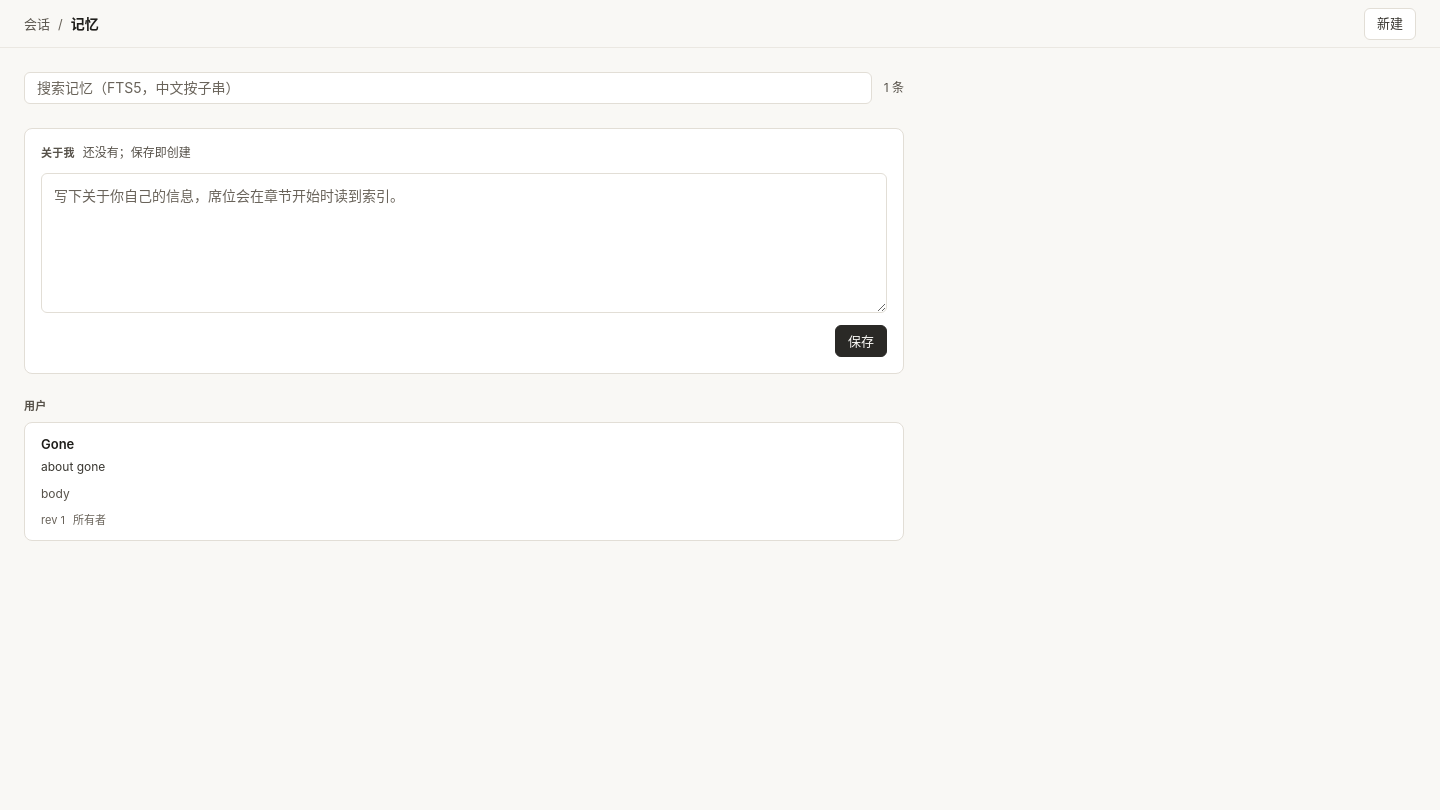
it: a delete target already removed elsewhere › refreshes the list and closes the editor instead of reopening it stale
What coordinates should you click on to do the following:
click the button with test id "memory-row"
I would click on:
 (58, 444)
Its box is [41,436,106,527].
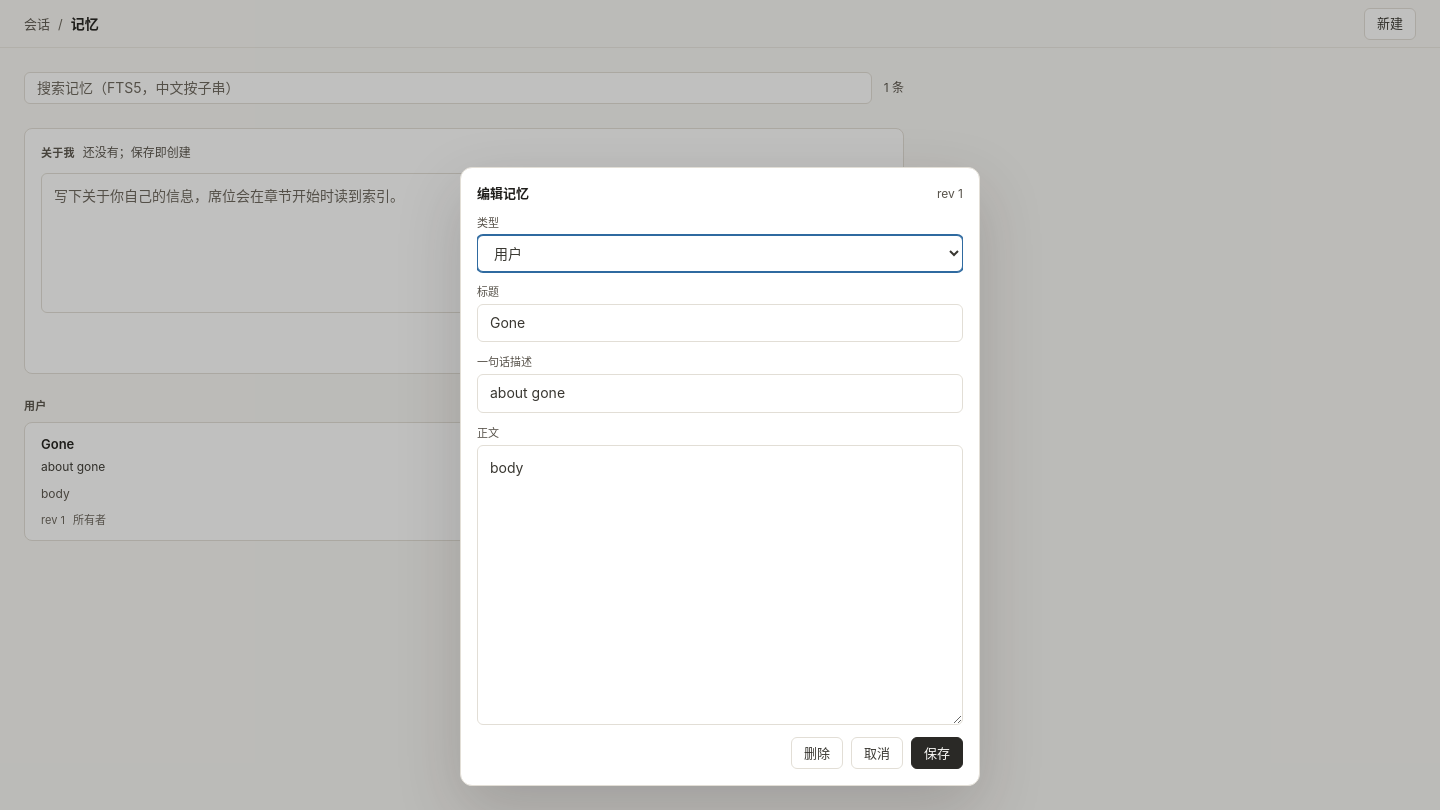
What coordinates should you click on to do the following:
click the button with test id "memory-editor-delete"
I would click on:
 (817, 753)
Its box is [791,737,843,769].
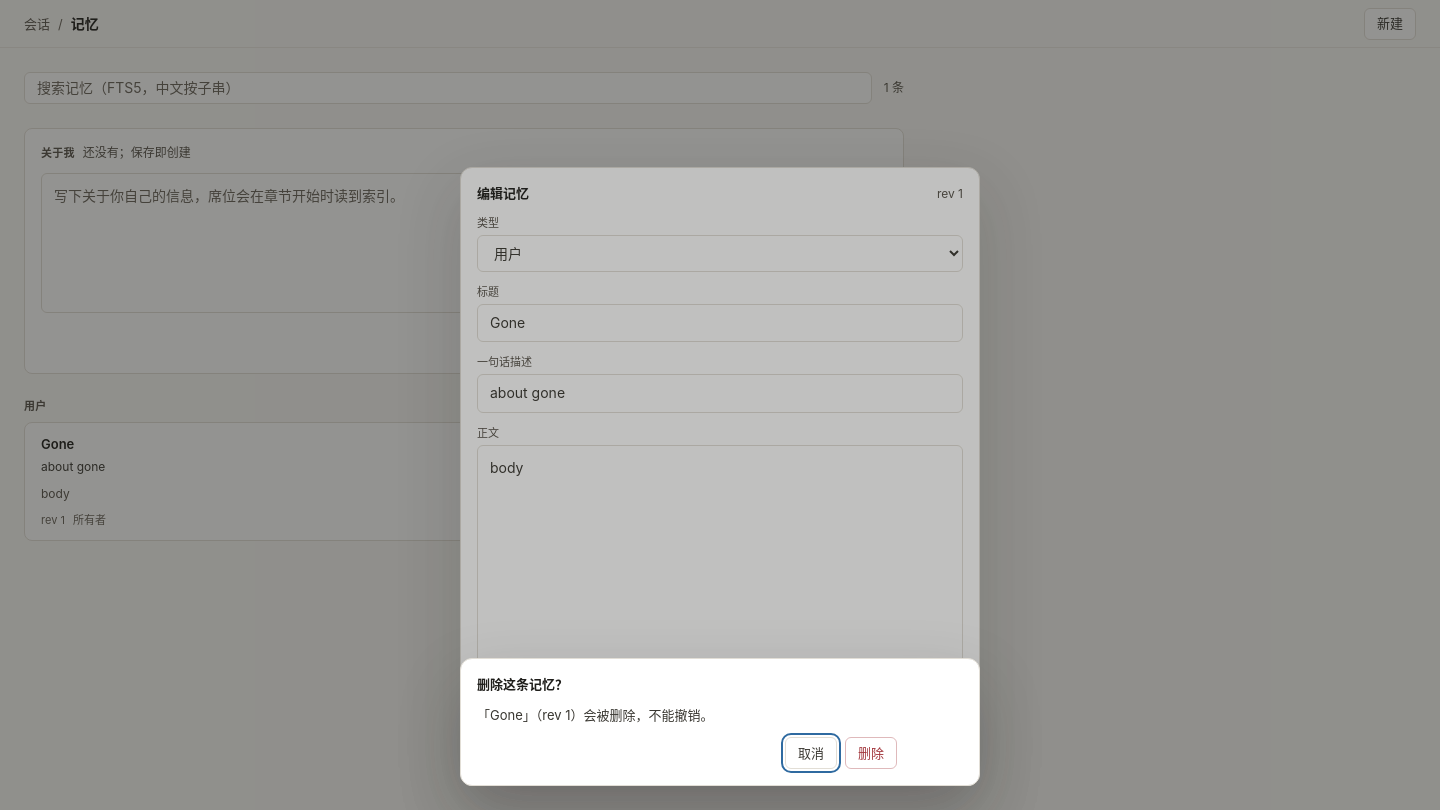
What coordinates should you click on to do the following:
click the button with test id "memory-delete-confirm-yes"
I would click on:
 (871, 753)
Its box is [845,737,897,769].
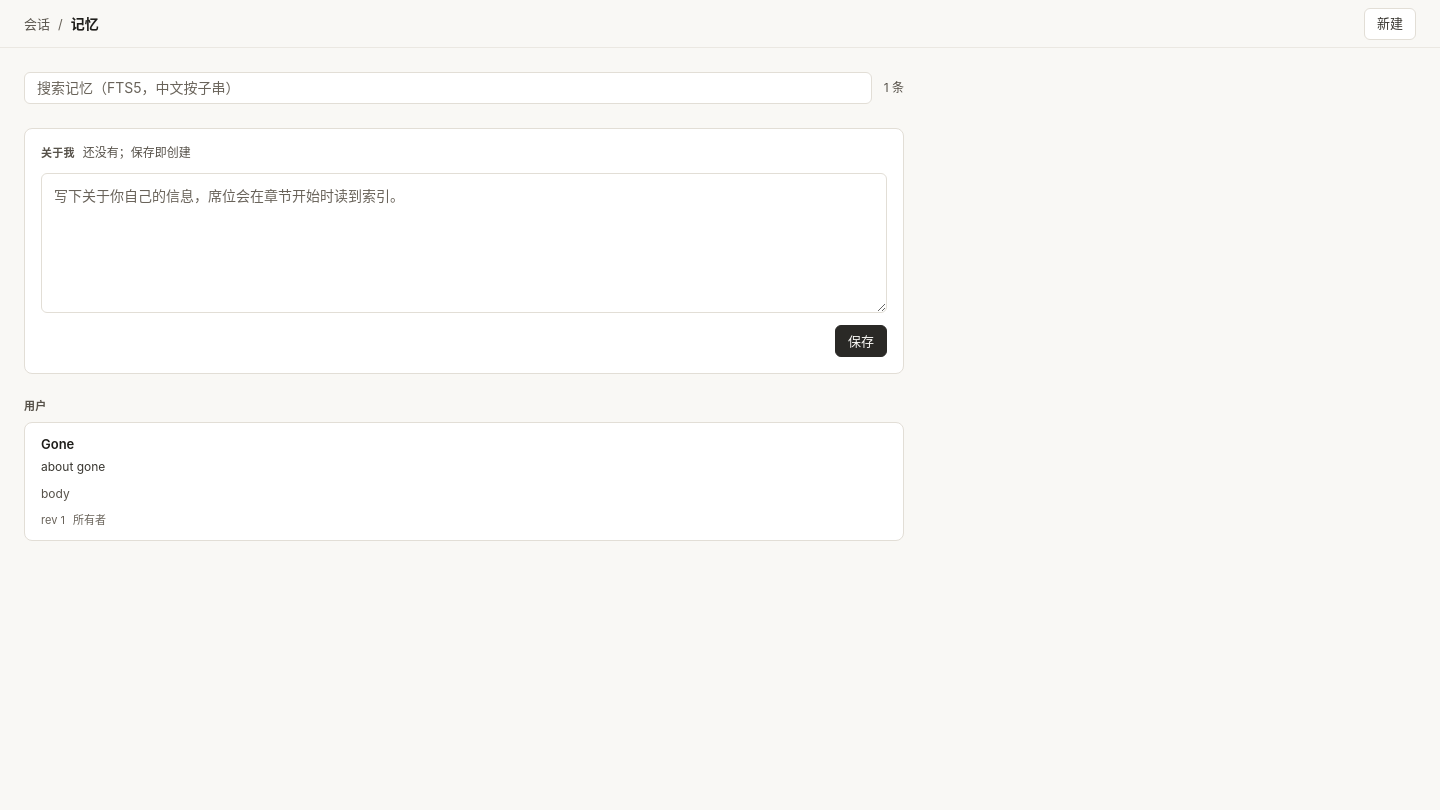
Expected: the form with test id "memory-editor" is gone
